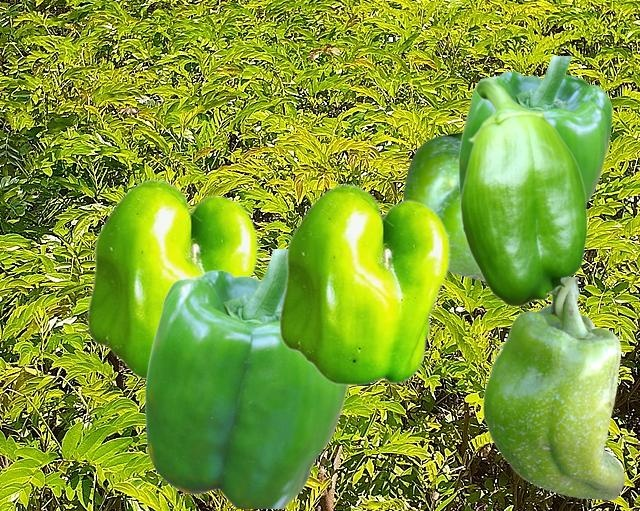bell_pepper: (144, 249, 348, 507), (86, 178, 257, 380), (278, 183, 449, 385), (482, 277, 624, 499), (459, 79, 587, 306), (458, 56, 611, 202), (403, 131, 483, 281)
